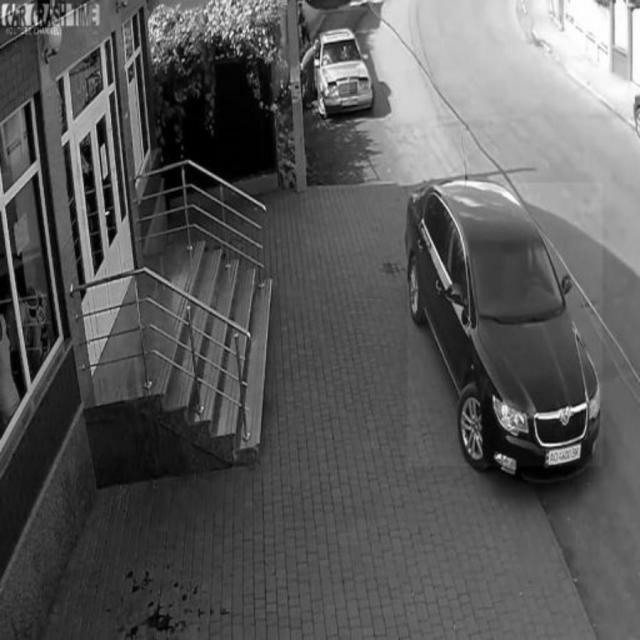vehicle: (408, 183, 603, 467), (317, 30, 374, 116)
